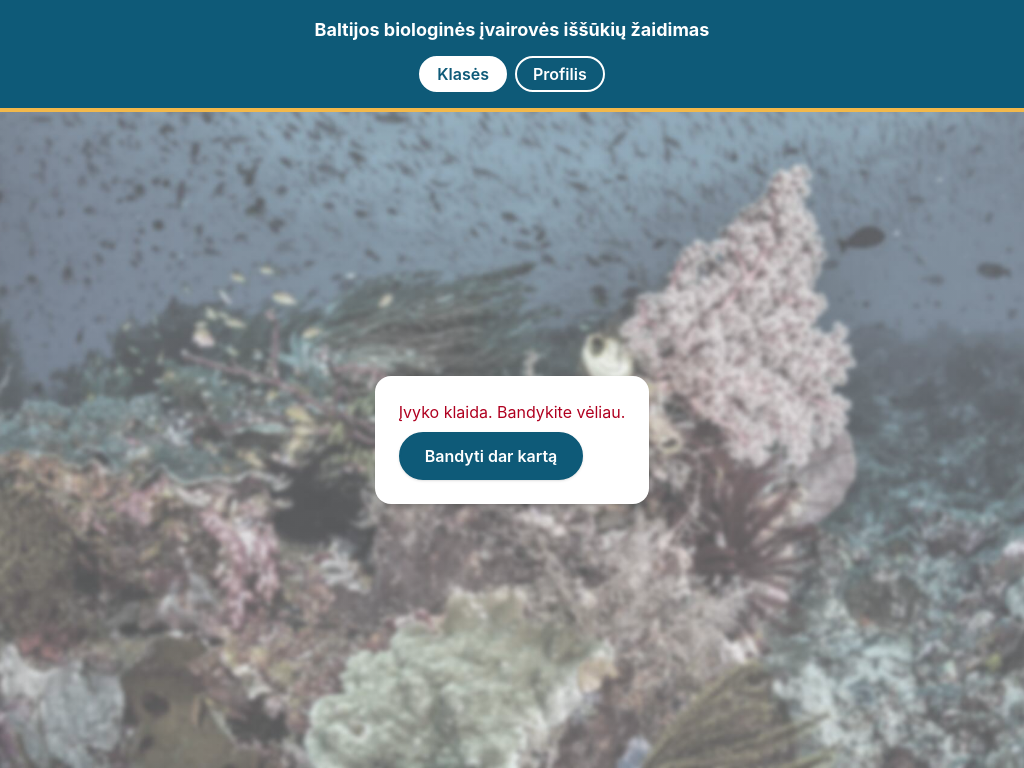
it: ClassListPage › shows the error state and loads the classes again when retry is pressed
Check: the message reads "Įvyko klaida. Bandykite vėliau.", box [399,402,625,422]
Click the button "Bandyti dar kartą". click: (491, 456)
box: [399,432,583,480]
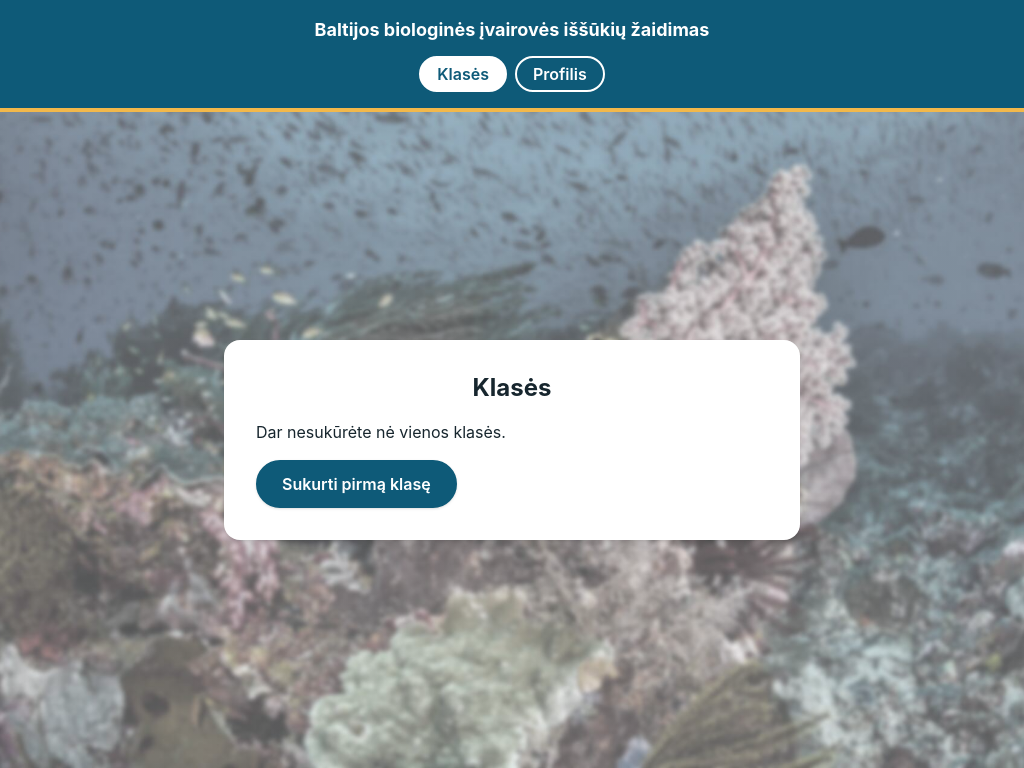
Check: the text "Dar nesukūrėte nė vienos klasės." is shown, box [256,422,506,442]
